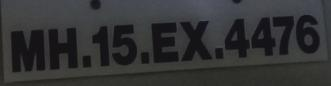1: (88, 22, 113, 70)
4: (222, 15, 251, 62), (249, 13, 278, 59)
5: (110, 20, 140, 67)
6: (293, 10, 322, 55)
7: (272, 10, 296, 59)
E: (148, 19, 180, 66)
H: (46, 24, 80, 71)
M: (7, 27, 47, 73)
X: (180, 16, 215, 67)
